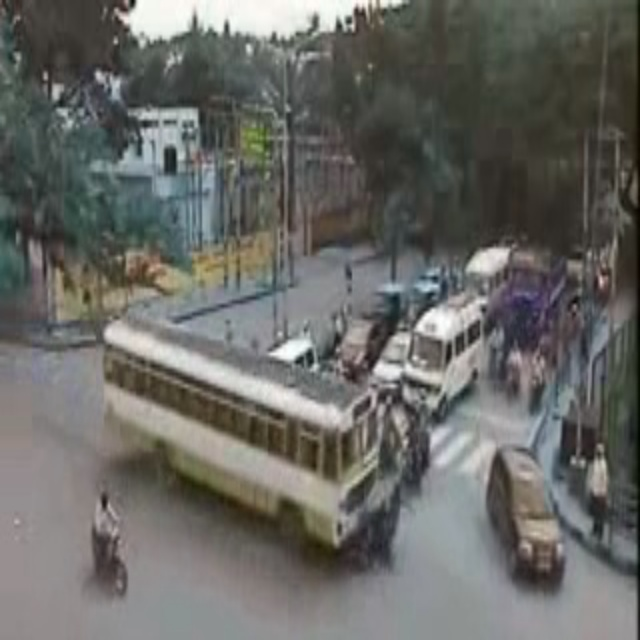acc: (321, 468, 409, 575)
